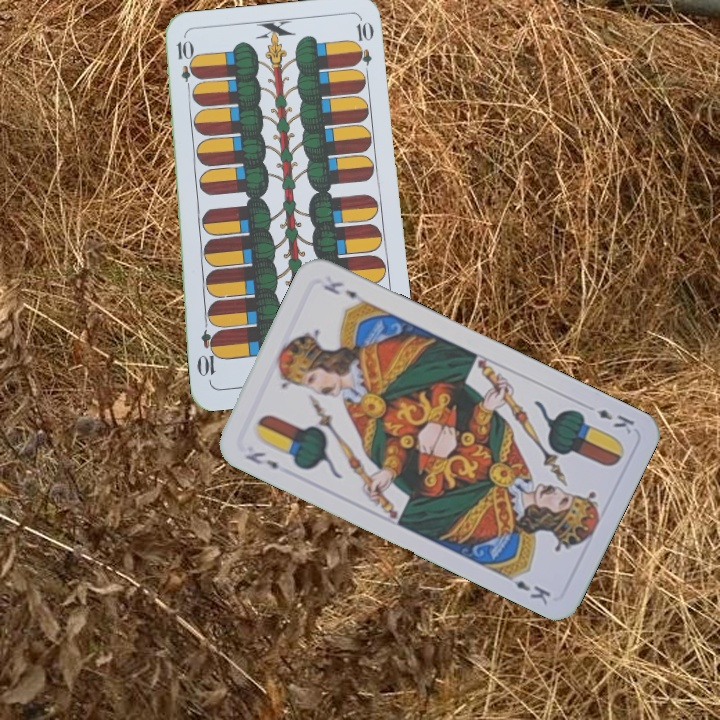E10: (173, 36, 195, 96)
EK: (593, 405, 638, 437), (241, 448, 281, 472)
